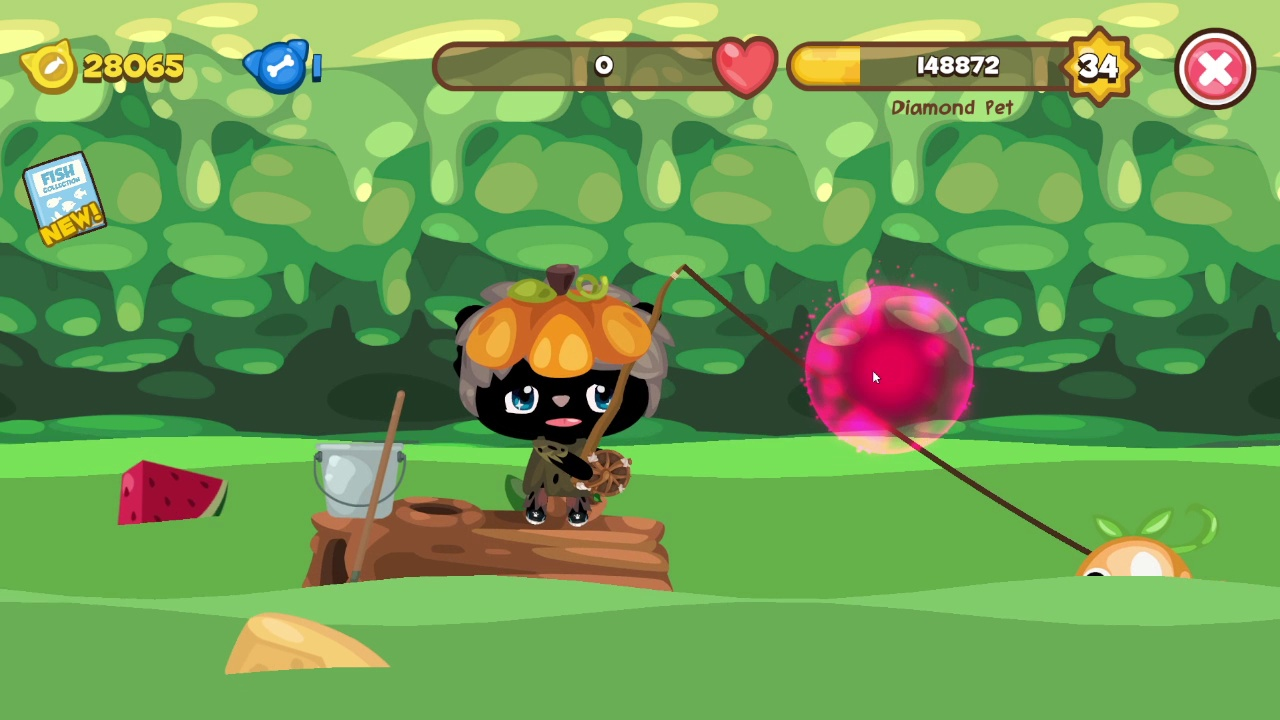point: (802, 285, 974, 456)
